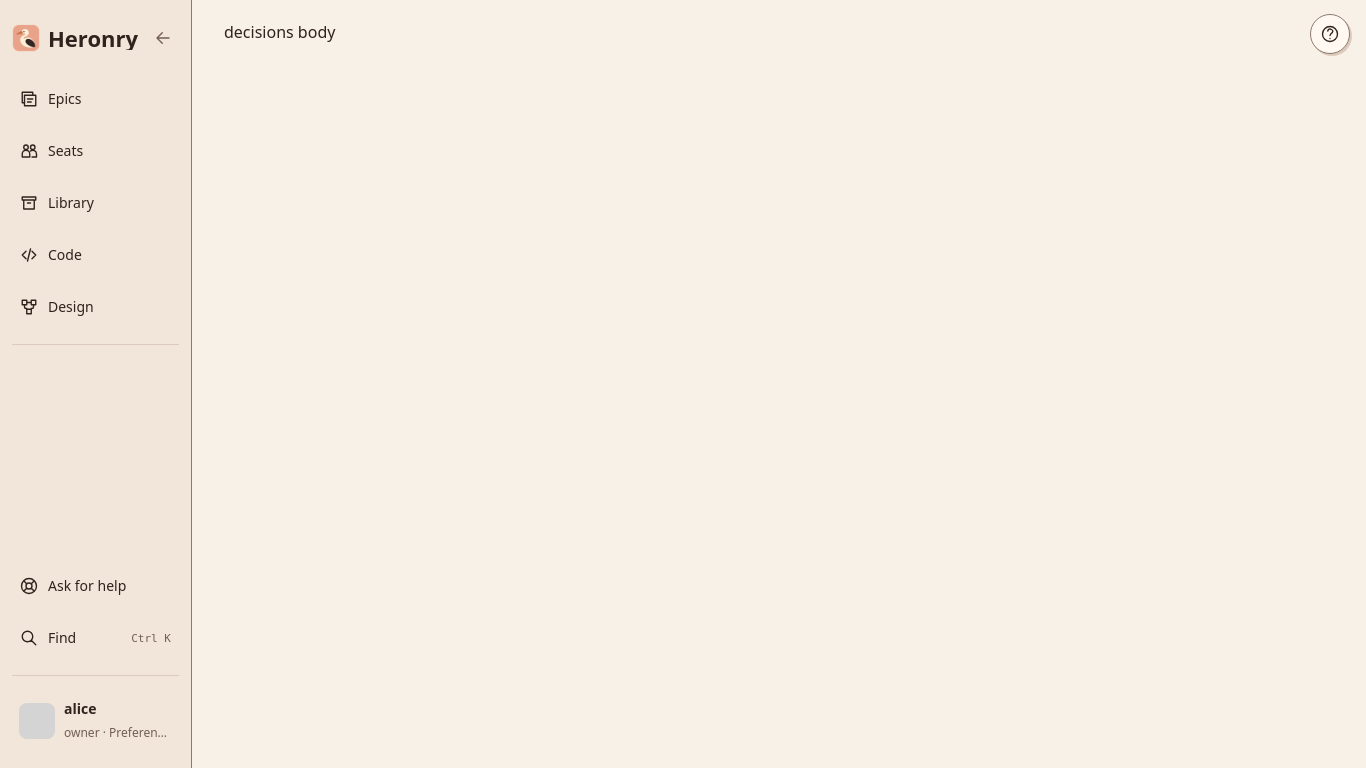
Sign out (t-882e4d2eeb) › the account menu's Sign out lands on the sign-in page: the next whoami carries no token and is 401
Check: the text with test id "identity" reads "alice", box [64,699,96,718]
Click the button with test id "account-open" at (96, 721), box [12,690,179,752]
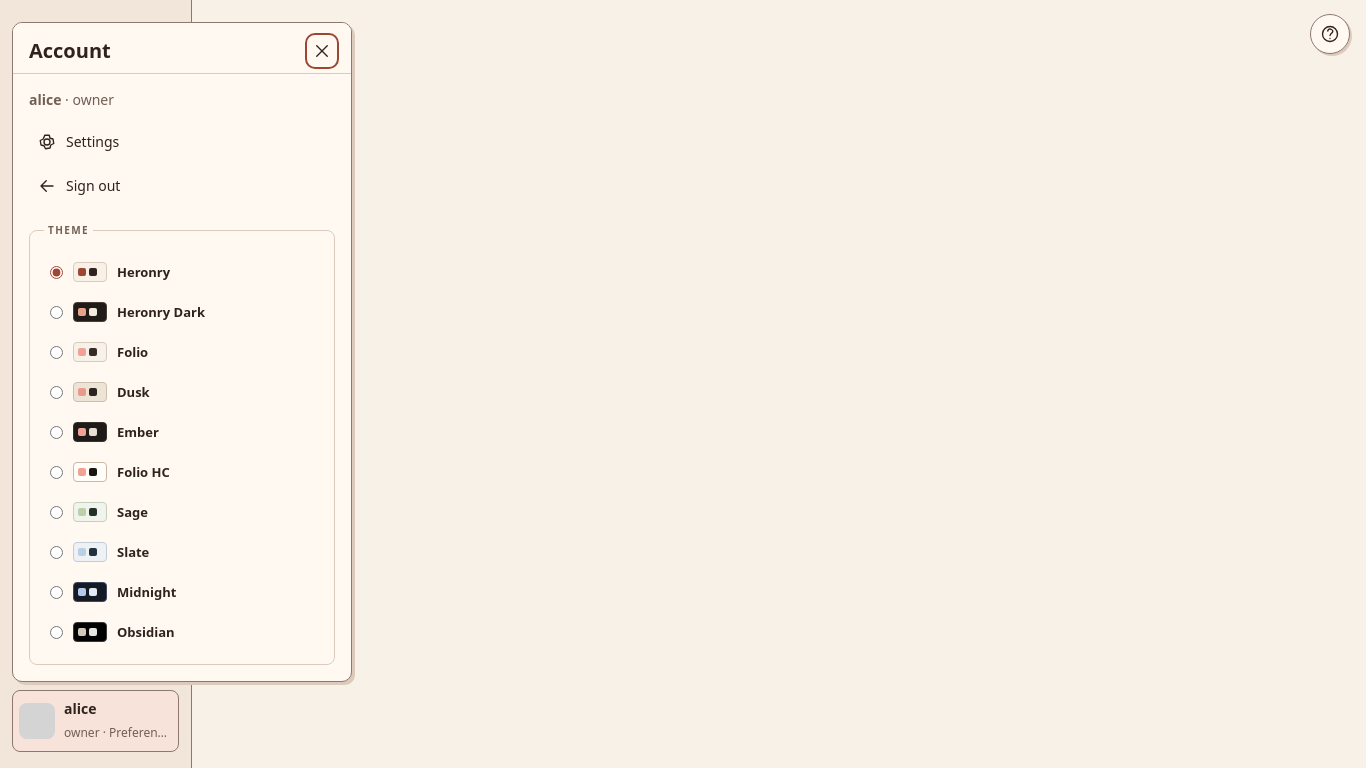
Click the button with test id "sign-out" at (93, 186), box [29,166,335,206]
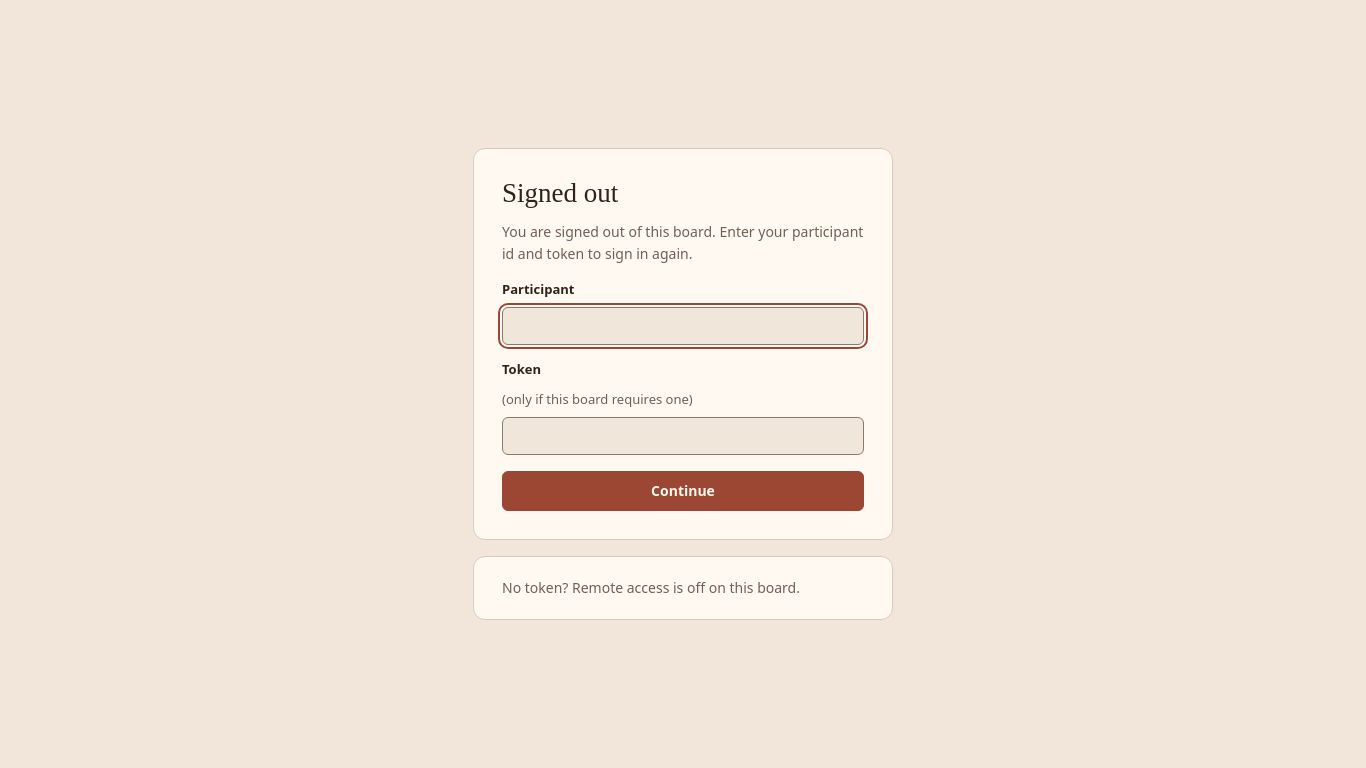
Check: the element with test id "identity-panel" is shown
Check: the text with test id "signed-out" shows "You are signed out", box [502,222,863,263]
